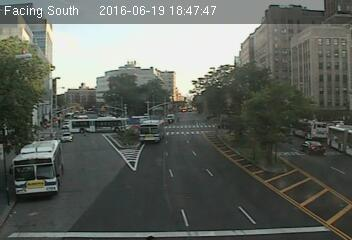neg: (20, 70, 45, 103), (202, 49, 226, 81), (115, 162, 139, 194), (39, 151, 61, 181), (162, 178, 184, 207), (67, 49, 88, 78), (124, 67, 144, 94), (270, 145, 289, 171), (76, 192, 95, 217), (218, 195, 235, 219), (307, 68, 324, 91), (75, 115, 91, 137), (232, 133, 247, 154), (172, 112, 186, 132), (309, 136, 323, 156), (282, 46, 296, 64)
